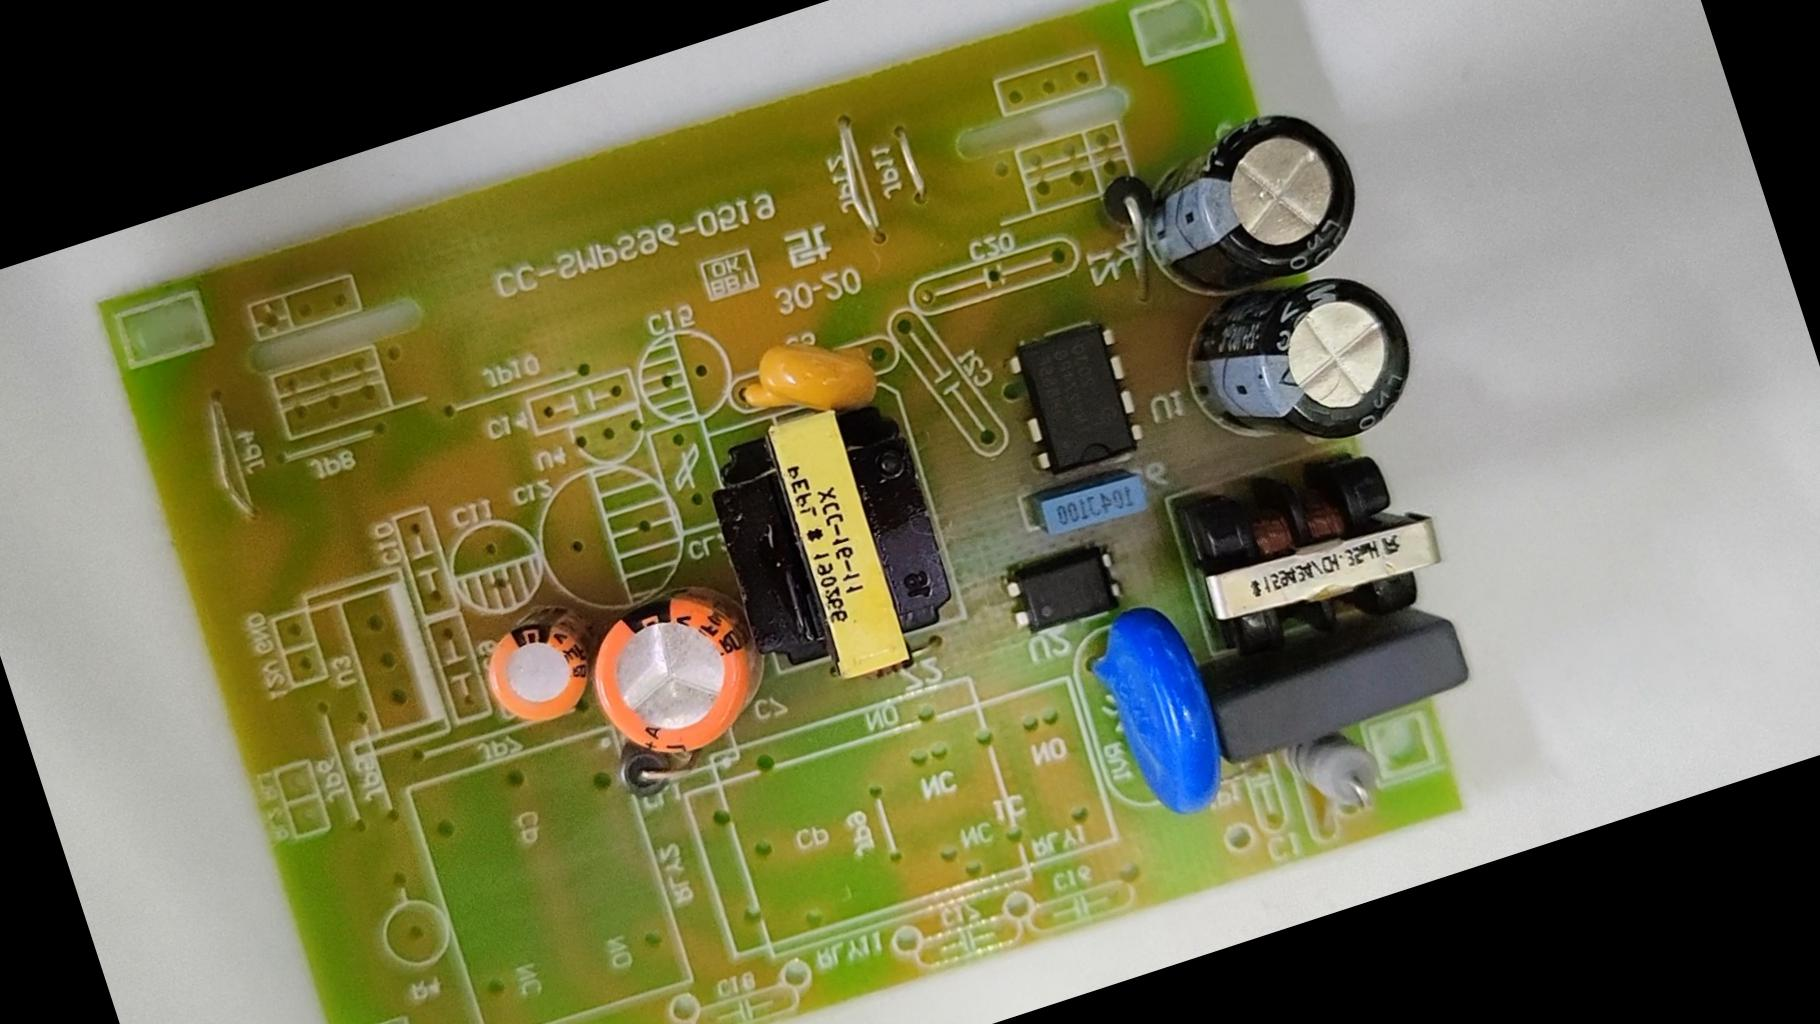Cap1: (564, 558, 784, 785)
Cap2: (465, 584, 606, 744)
Cap3: (1172, 239, 1456, 488)
Cap4: (1111, 83, 1382, 324)
MOSFET: (992, 308, 1159, 489)
Mov: (1077, 585, 1247, 835)
Resistor: (1274, 718, 1395, 834)
Transformer: (695, 379, 984, 710), (1170, 435, 1460, 661)
